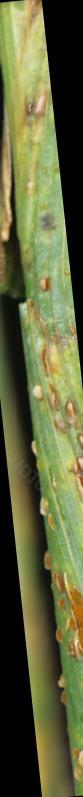Wheat: (1, 11, 82, 442)
